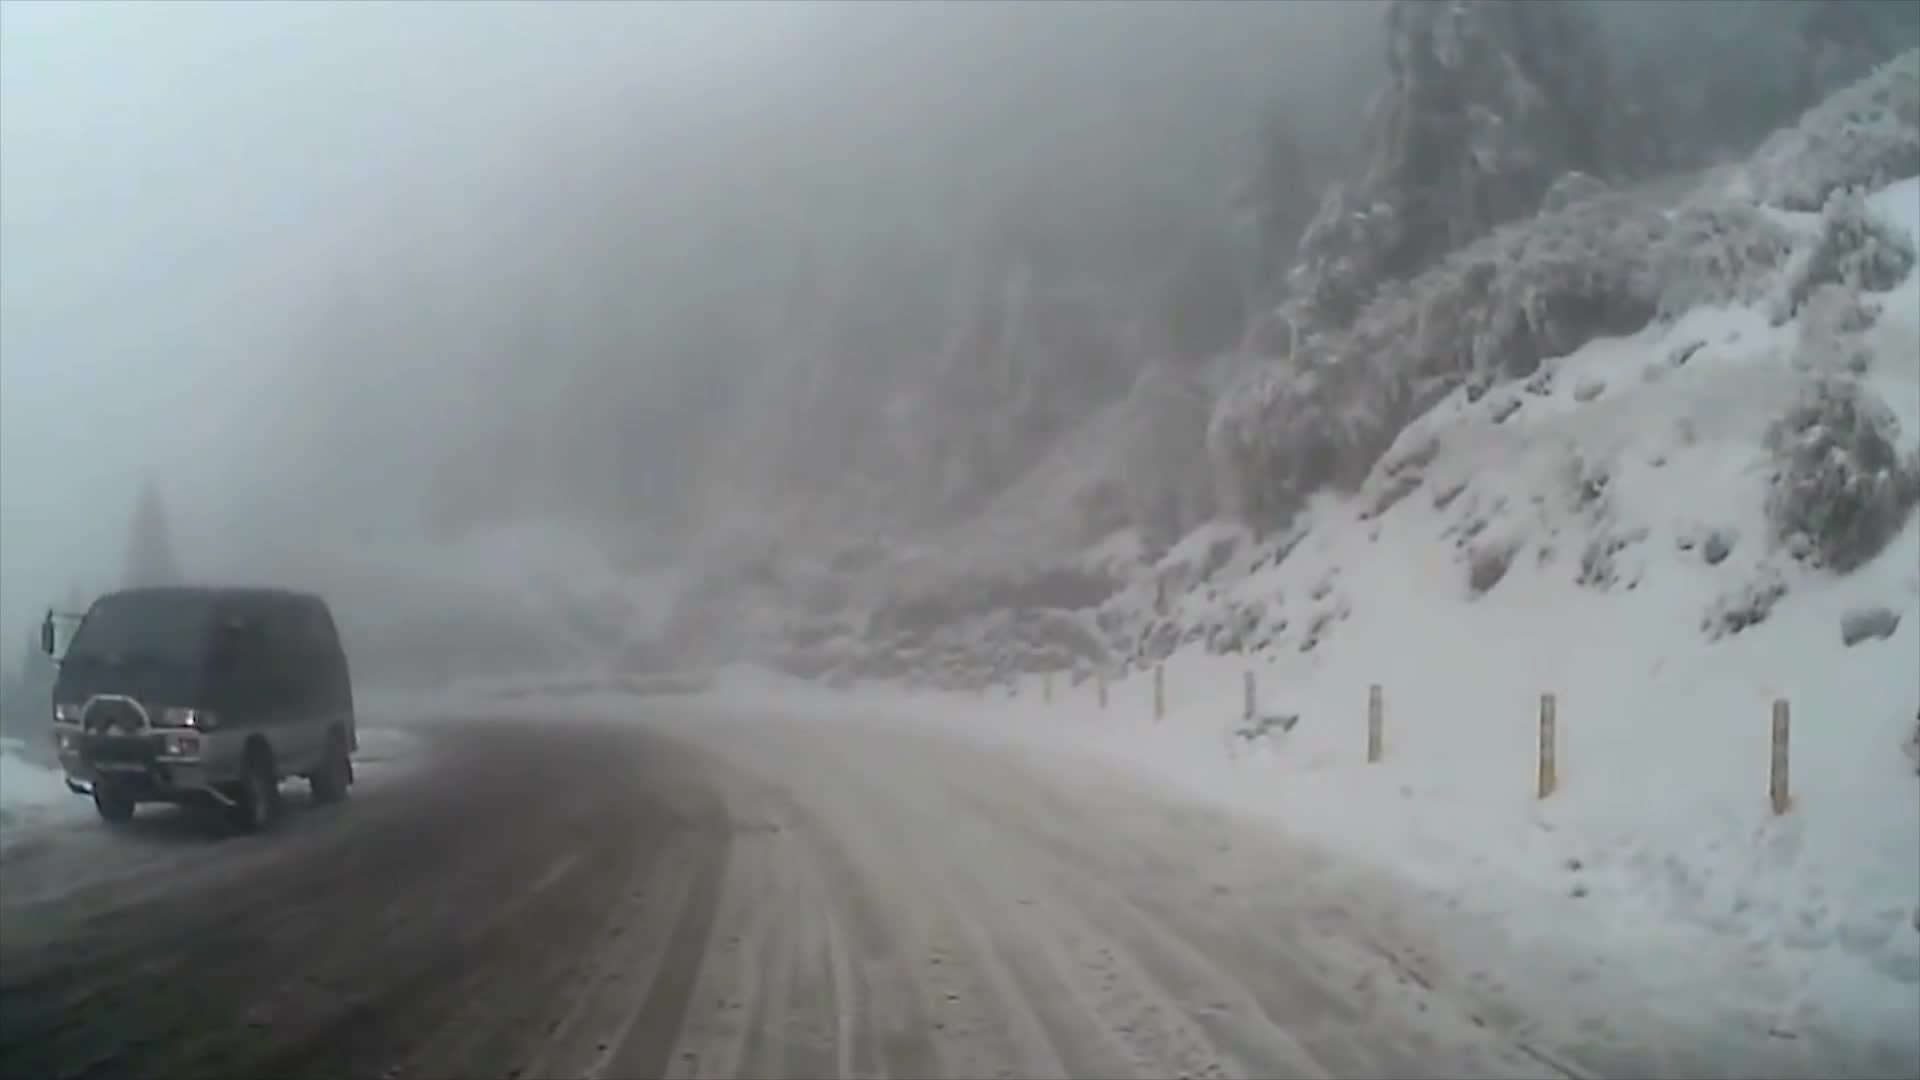vehicle: (36, 585, 356, 833)
